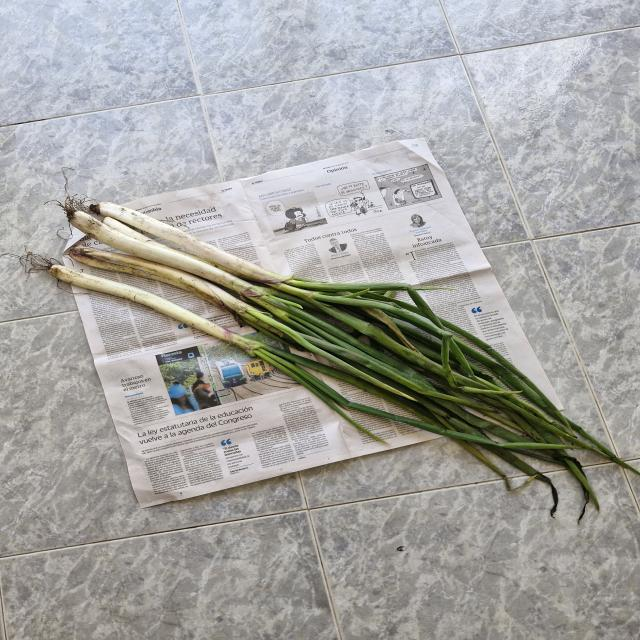green_onion: (65, 190, 514, 403), (36, 257, 341, 389)
